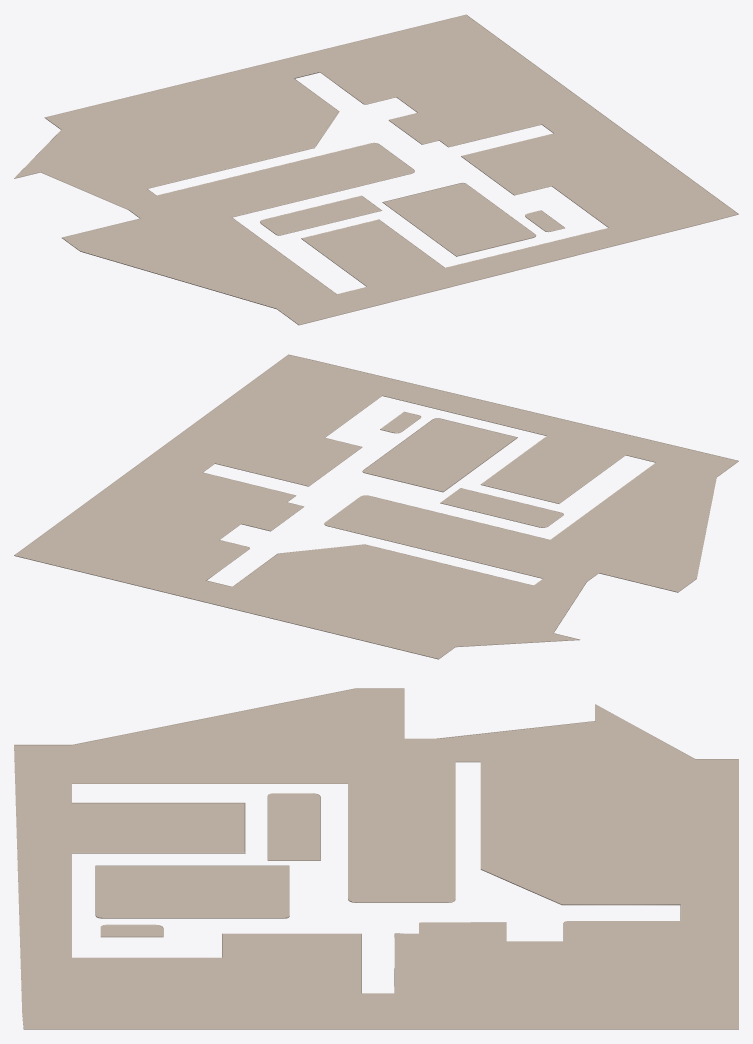
File: suelo_colegio_acera.fbx
The picture shows the model from 3 angles, top to bottom: view 1: azimuth 30°, elevation 25°; view 2: azimuth 150°, elevation 25°; view 3: azimuth 270°, elevation 25°; orthographic projection. The views are drawn at different scales.
Parts seen in each view (by area): view 1: suelo_acera_colegio; view 2: suelo_acera_colegio; view 3: suelo_acera_colegio.
Boxes of the visible parts, x1,y1,x2,y2 form: suelo_acera_colegio: (14, 14, 738, 325); suelo_acera_colegio: (14, 354, 738, 659); suelo_acera_colegio: (14, 688, 738, 1029).
Size of the model in its own units: 270 by 0.3 by 243.
